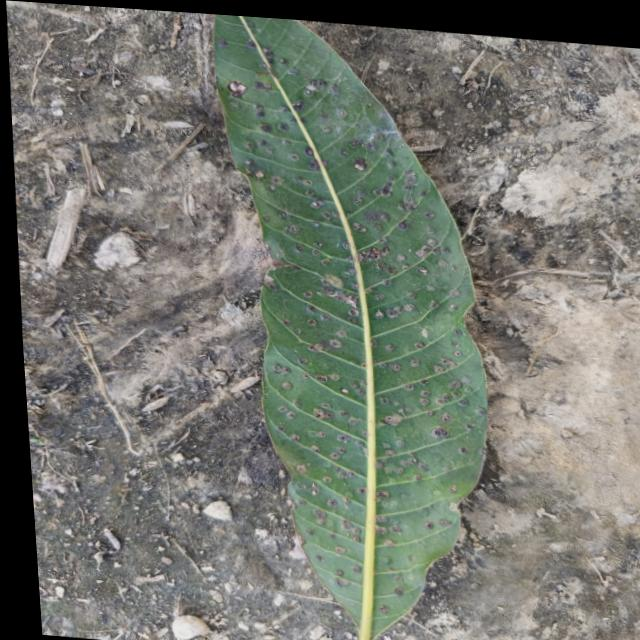gall midge: (296, 396, 411, 527), (313, 201, 429, 326)
